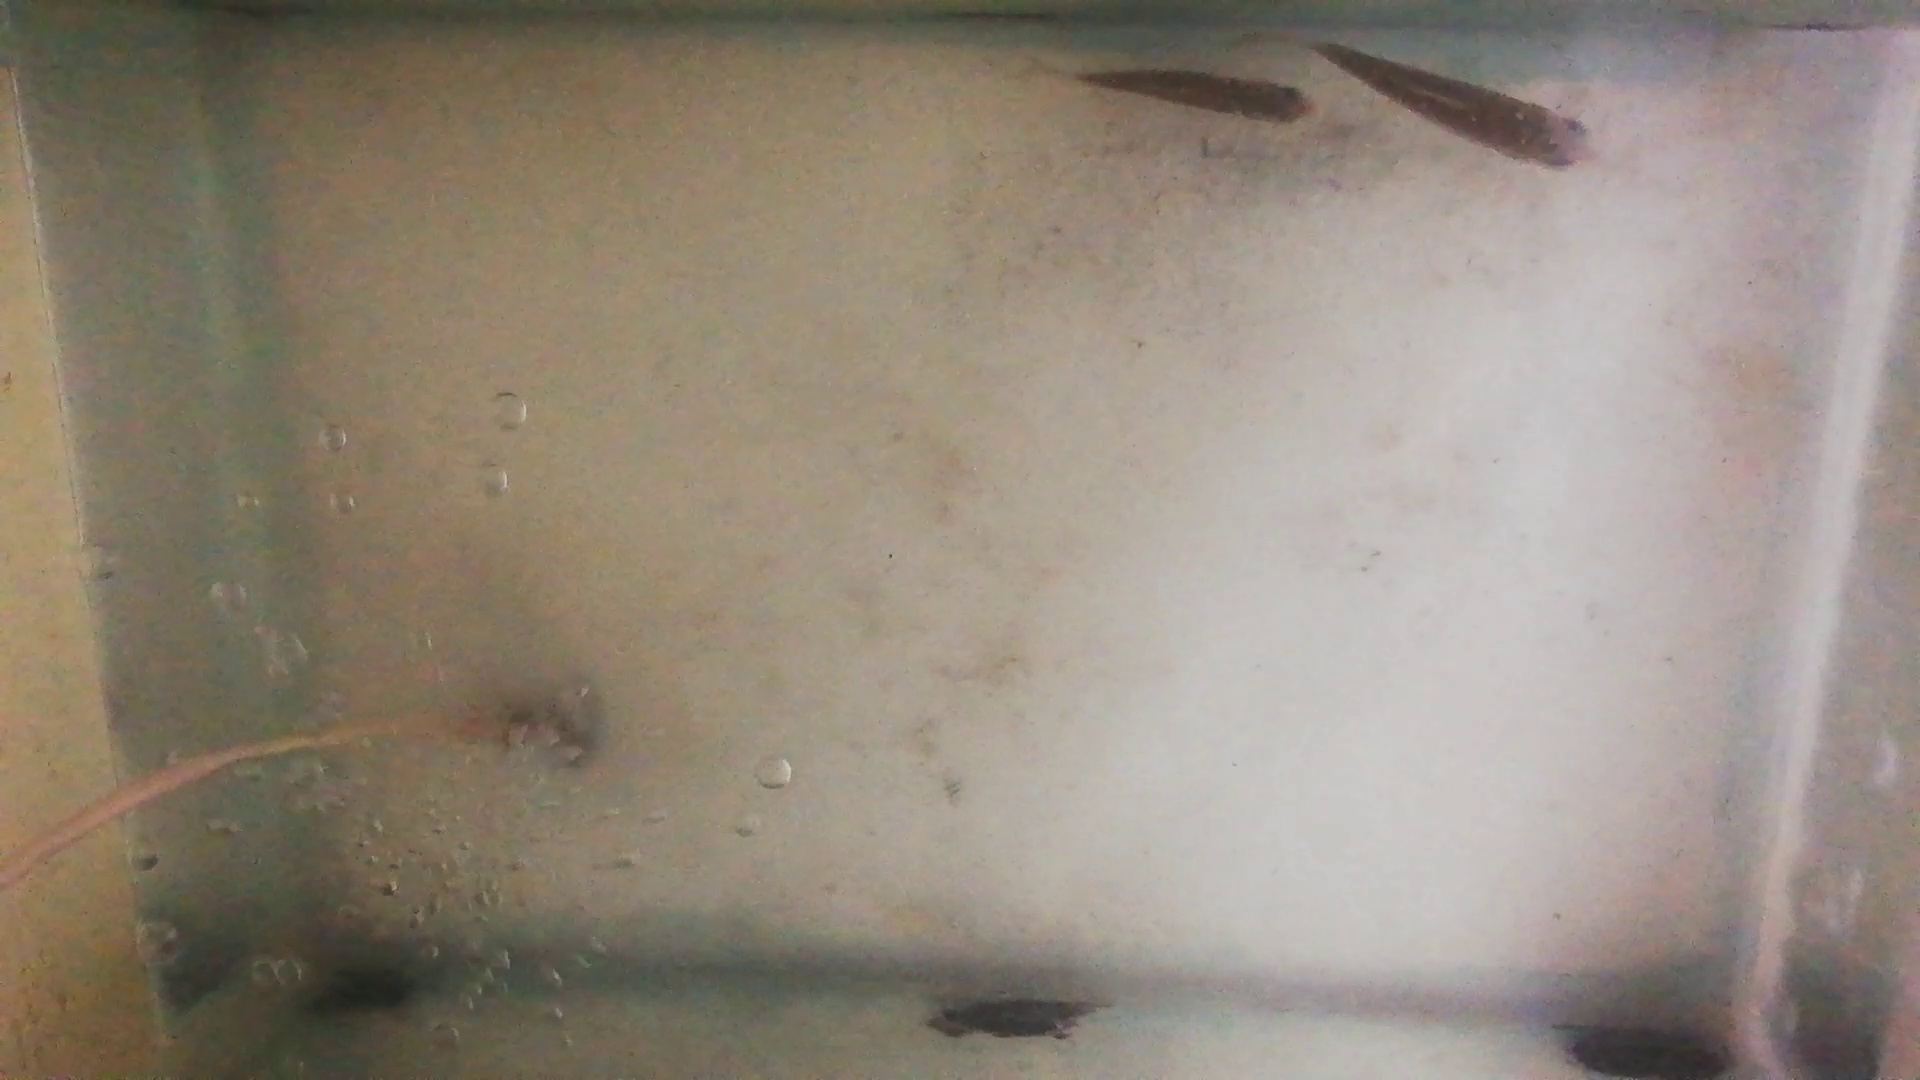fish: (1311, 41, 1596, 173), (1069, 65, 1317, 127)
